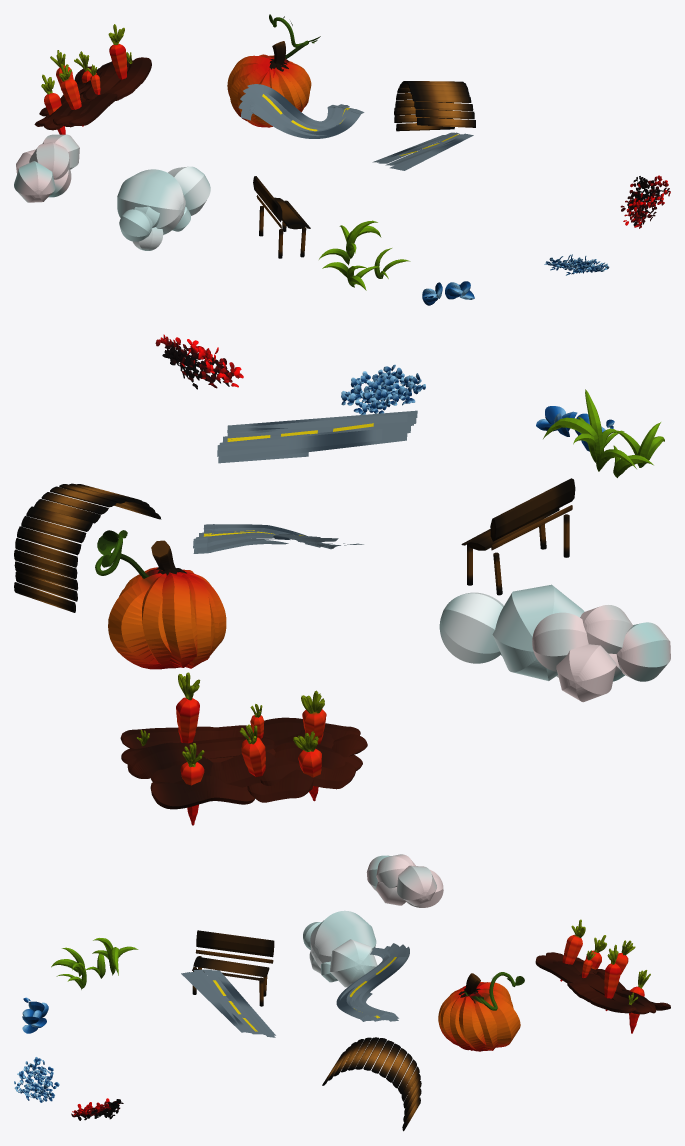
3 views of the same model, one above another, from view 1: azimuth 30°, elevation 25°; view 2: azimuth 150°, elevation 25°; view 3: azimuth 270°, elevation 25° (orthographic). The views are drawn at different scales.
Visible parts, largest first — view 1: Cloud2, Citrouille, Carotte, NewLayer1, Cloud, Grass, Feuillerougeterre, Road, Bleuet, Champbleeuet; view 2: Carotte, Citrouille, Cloud2, Cloud, NewLayer1, Road, Grass, Champbleeuet, Feuillerougeterre; view 3: Citrouille, Cloud2, Carotte, NewLayer1, Cloud, Road, Grass, Champbleeuet, Feuillerougeterre, Bleuet.
Boxes of the visible parts, x1,y1,x2,y2 form: Cloud2: (117,166,310,258); Citrouille: (227,14,364,138); Carotte: (34,24,151,134); NewLayer1: (394,81,475,286); Cloud: (14,134,79,202); Grass: (319,220,410,290); Feuillerougeterre: (620,175,670,228); Road: (372,132,473,170); Bleuet: (422,281,474,305); Champbleeuet: (544,254,609,275); Carotte: (120,672,367,825); Citrouille: (95,524,363,669); Cloud2: (439,478,584,680); Cloud: (532,605,670,702); NewLayer1: (14,419,557,612); Road: (217,410,417,463); Grass: (543,389,664,477); Champbleeuet: (341,364,425,414); Feuillerougeterre: (155,334,243,389); Citrouille: (336,943,524,1051); Cloud2: (192,910,377,1006); Carotte: (535,919,670,1033); NewLayer1: (31,1018,421,1131); Cloud: (366,854,443,907); Road: (181,969,275,1037); Grass: (51,938,138,989); Champbleeuet: (14,1057,59,1102); Feuillerougeterre: (71,1098,123,1120); Bleuet: (22,997,48,1033).
Bounding box in the file's own units: 6.32 × 1.48 × 7.41.
